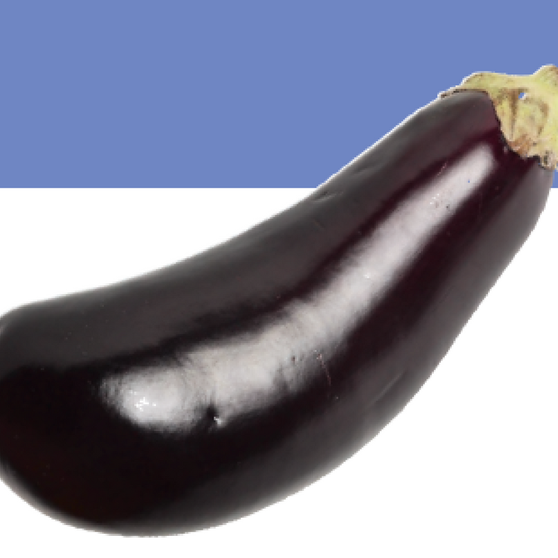eggplant: (4, 83, 555, 529)
